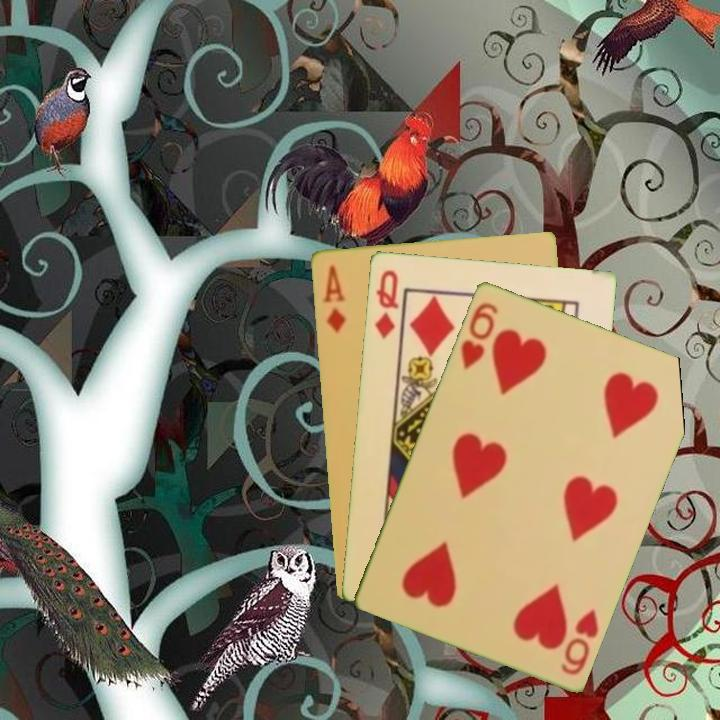6h: (456, 298, 501, 372), (557, 604, 602, 678)
Ad: (319, 261, 348, 336)
Qd: (371, 265, 401, 341)
